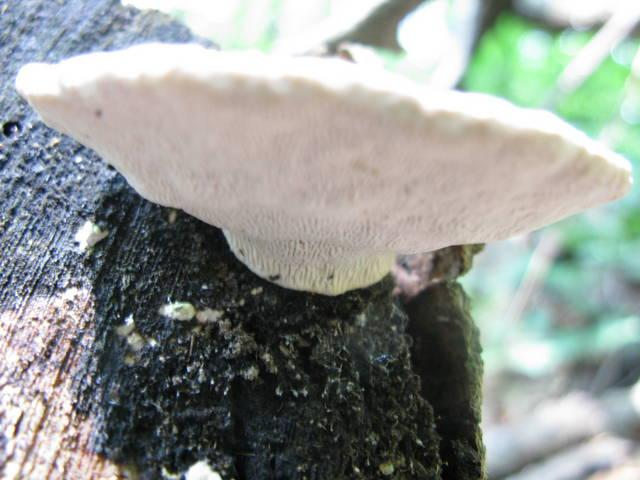poisonous_mushroom: (13, 39, 633, 297)
